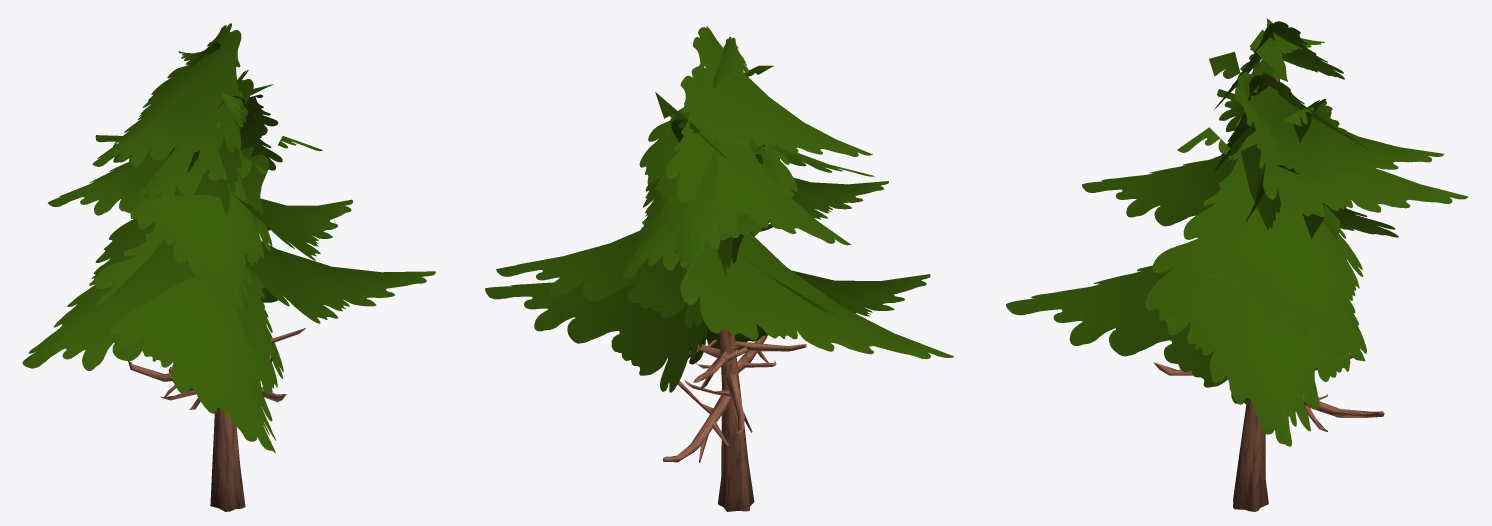
Rendered from pine_free_model_lo.glb.
3 views of the same model, side by side, from view 1: azimuth 30°, elevation 25°; view 2: azimuth 150°, elevation 25°; view 3: azimuth 270°, elevation 25° (orthographic). The views are drawn at different scales.
Visible parts, largest first — view 1: Pine_1; view 2: Pine_1; view 3: Pine_1.
Boxes of the visible parts, left/top/right/bottom form: Pine_1: left=22, top=23, right=435, bottom=511; Pine_1: left=485, top=26, right=953, bottom=511; Pine_1: left=1006, top=18, right=1468, bottom=511.
Size of the model in its own units: 7.65 by 7.69 by 6.73.
2 materials, 2 textured.
